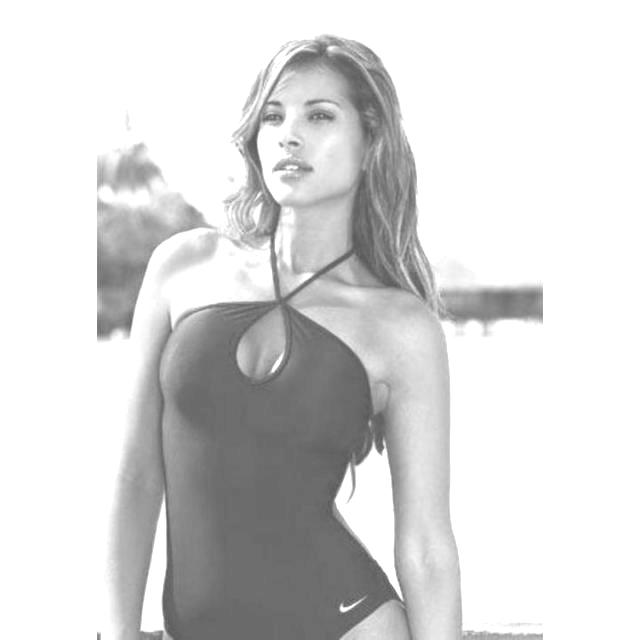real: (258, 76, 362, 208)
